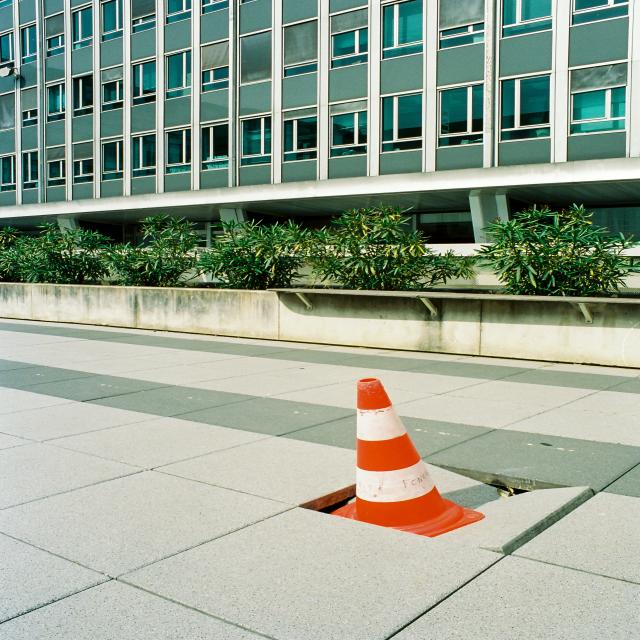Traffic Cone: (249, 354, 551, 612)
